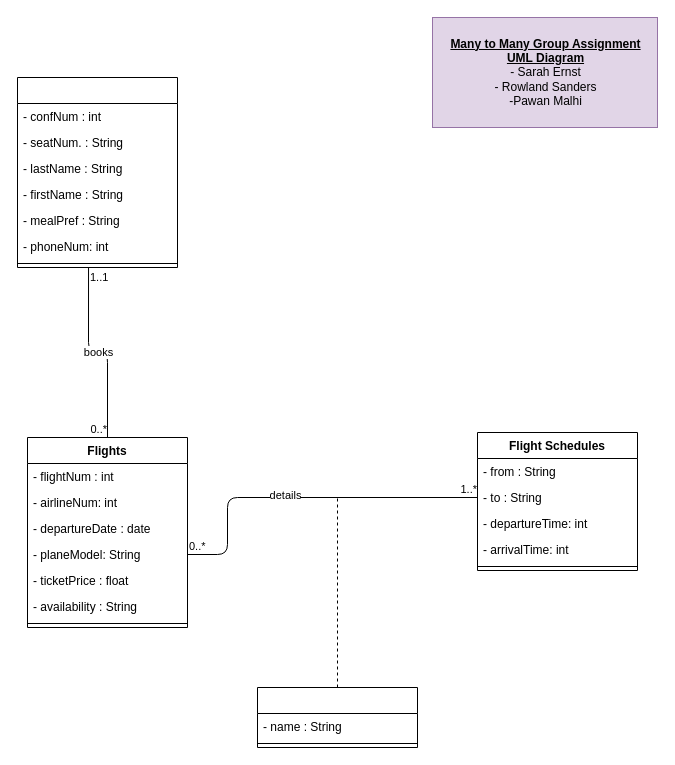
Some shapes in this 675 by 765 pixel diagram are drawn without their labels. The box of each missing label's shape, as (x1, y1, x2, y2) in pixels:
Airlines: (256, 686, 418, 748)
Passengers: (16, 76, 178, 268)
